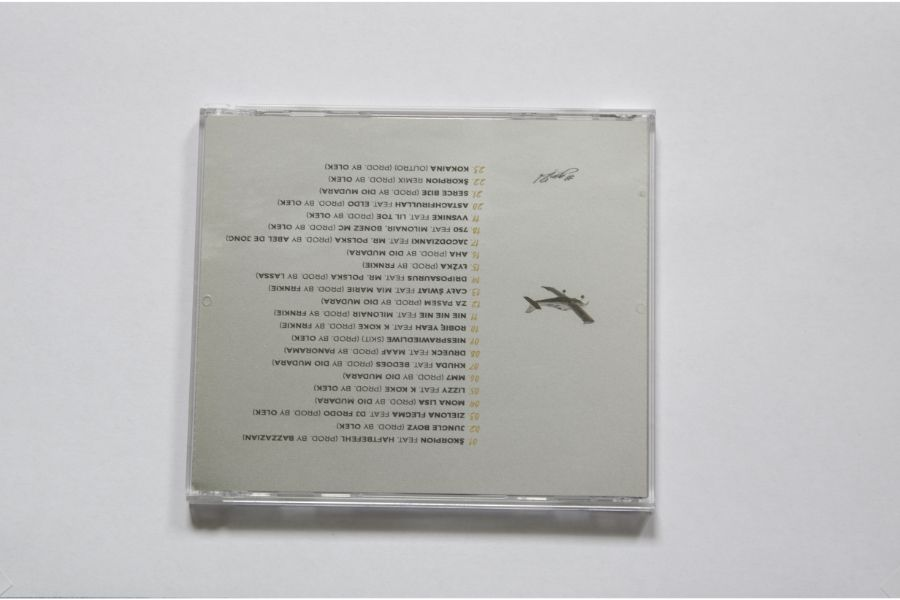album: (192, 106, 657, 513)
